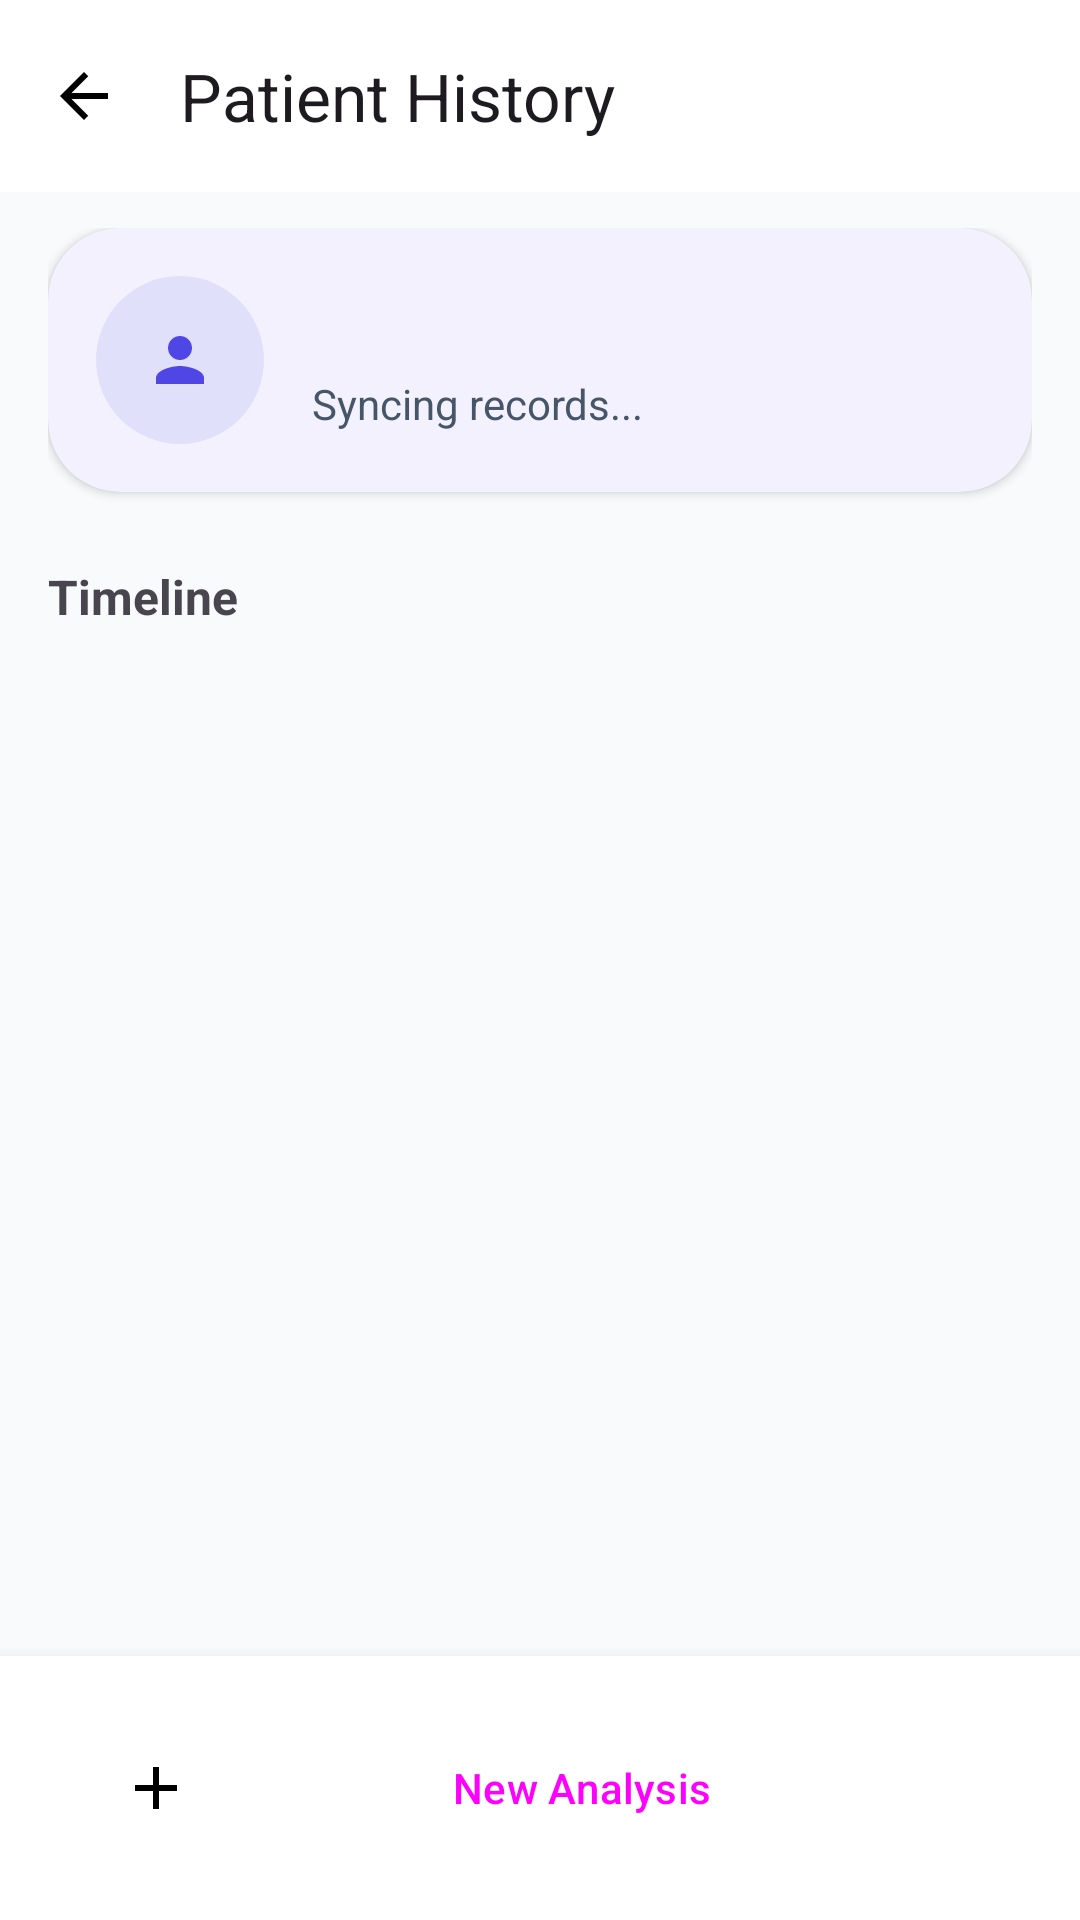

Icon click points for this 1080*1920 phone screenshot, format (x,y):
person: (180,360)
